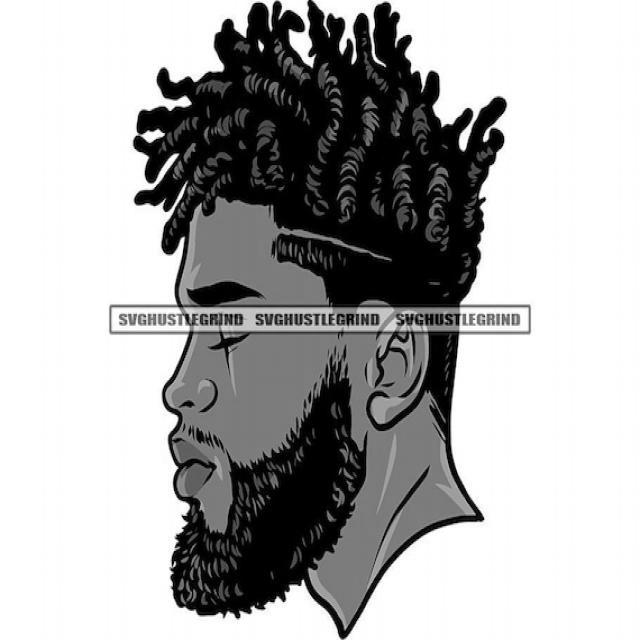real: (142, 48, 458, 625), (179, 290, 280, 366)
